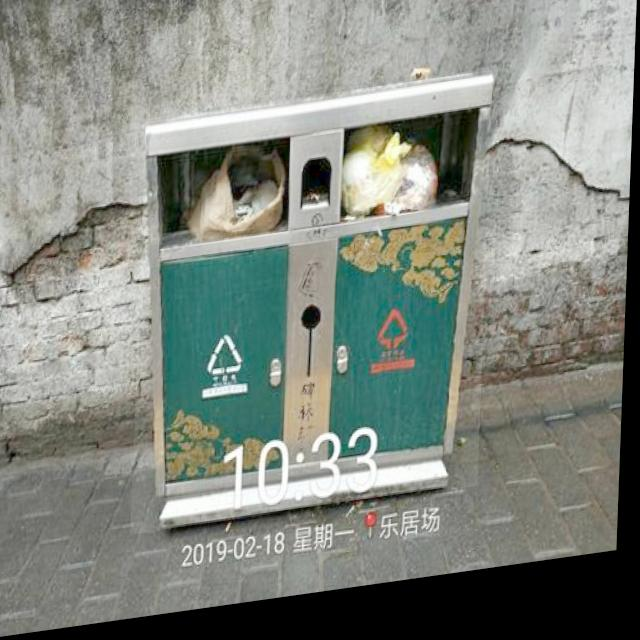overflow: (135, 85, 494, 539)
